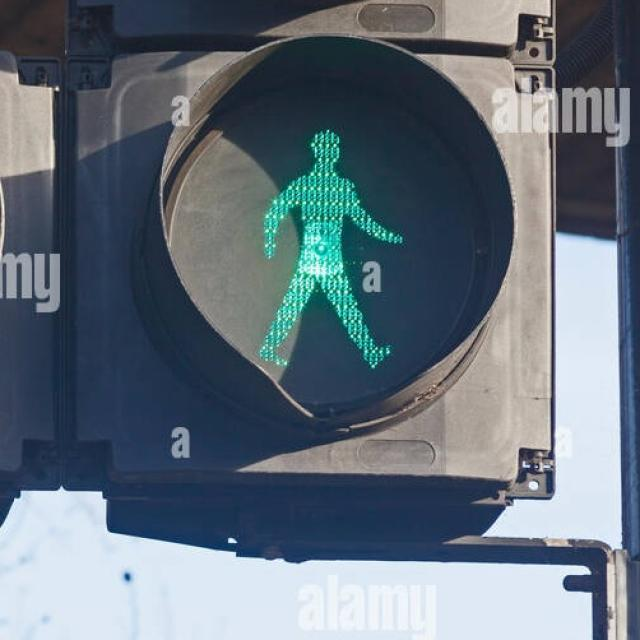green_light: (247, 107, 389, 376)
